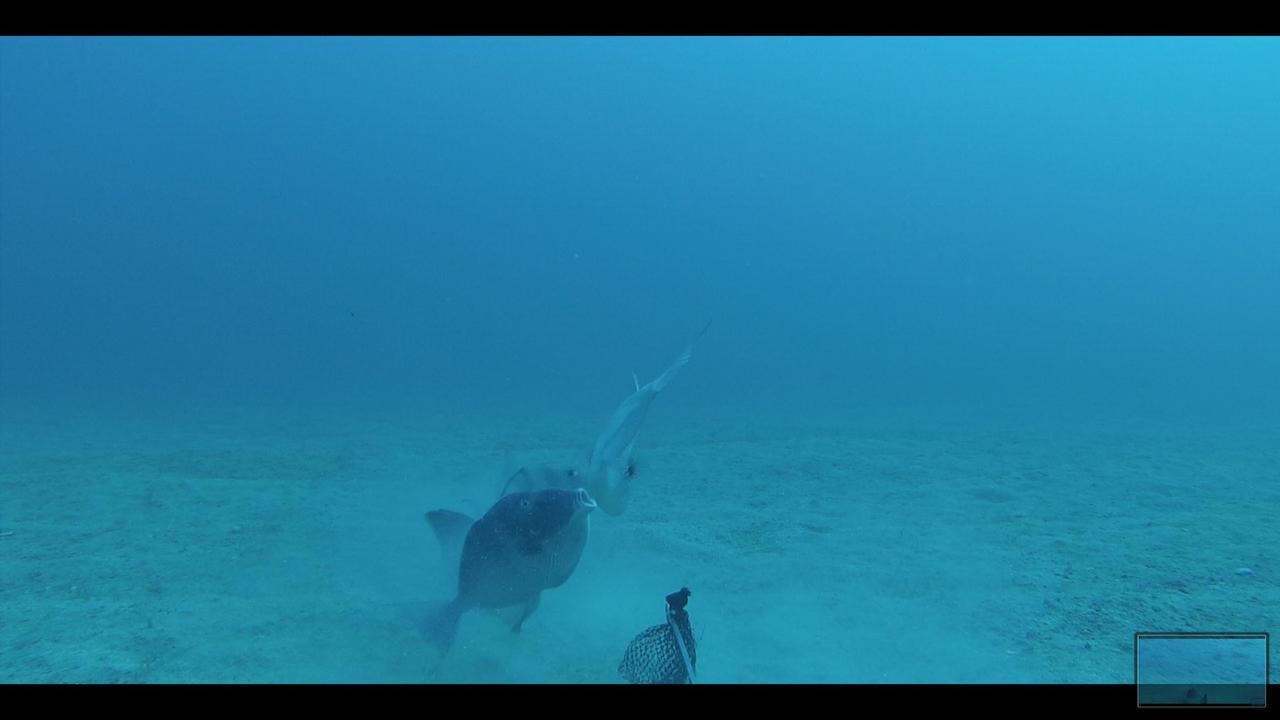balistes: (379, 485, 595, 665), (585, 314, 715, 519), (469, 451, 587, 492)
